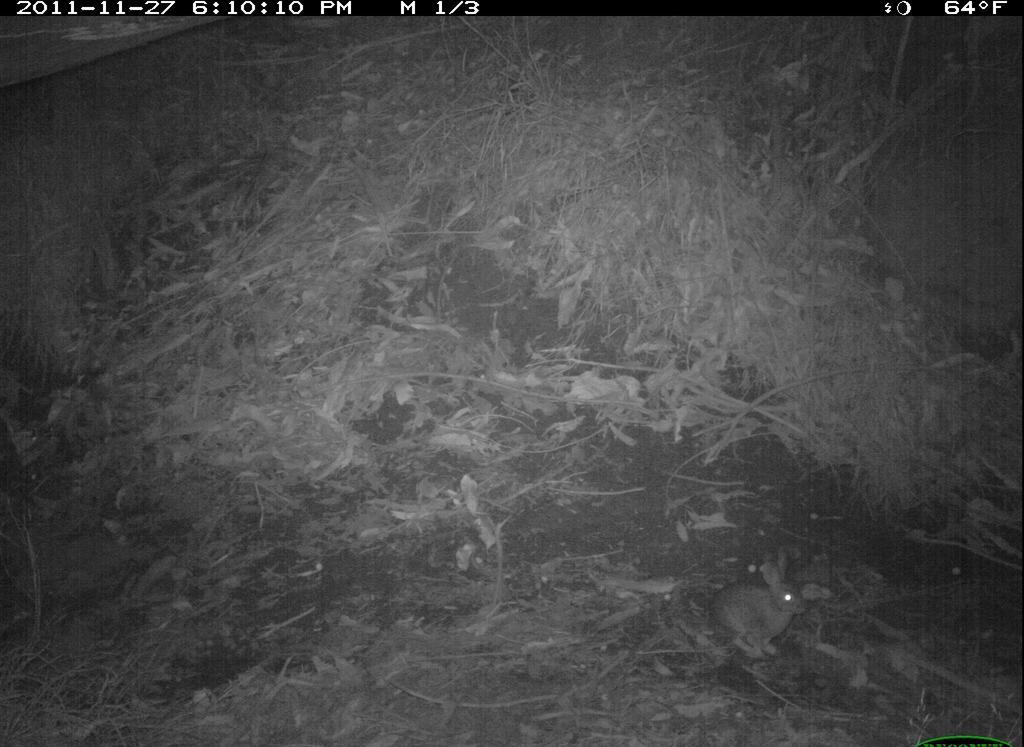rabbit: (703, 552, 818, 665)
